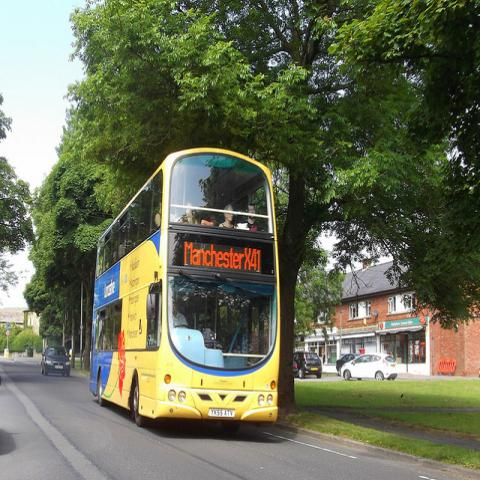bus: (88, 149, 283, 432)
car: (339, 354, 398, 381), (40, 346, 71, 376), (294, 352, 322, 378), (336, 354, 361, 372)
